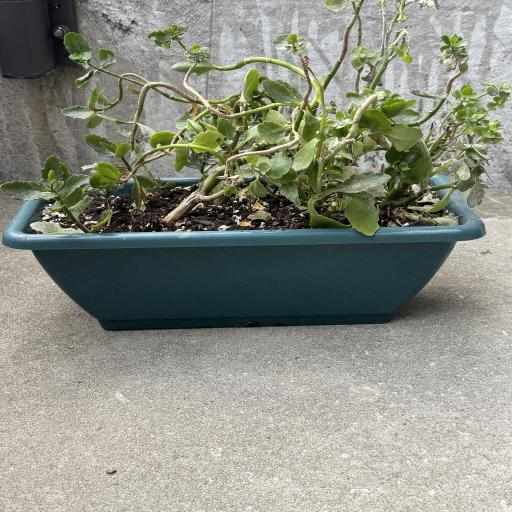Plant Pot: (6, 176, 485, 330)
